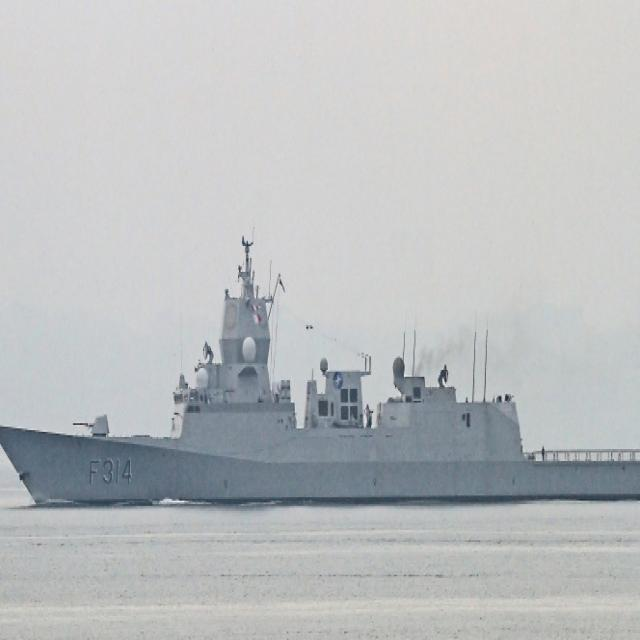Fragata: (1, 225, 640, 516)
